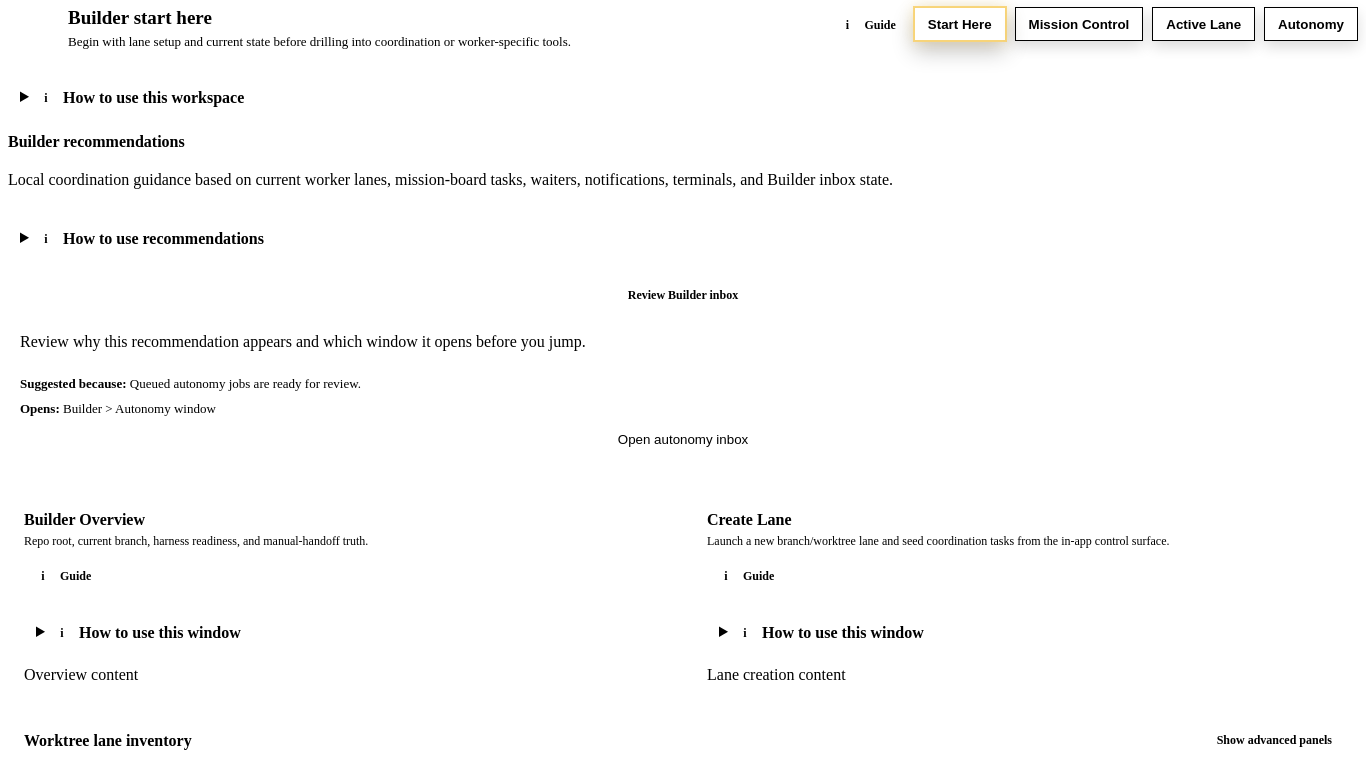
Test: BuilderWorkspaceView › uses Builder recommendations to switch nested surfaces
Expected: the text "Builder recommendations" is shown, [8, 133, 185, 150]
Expected: the text "Review why this recommendation appears" is shown, [20, 333, 586, 350]
Step 1. Click the button "Open autonomy inbox" → coordinates (683, 440), box [20, 426, 1346, 453]
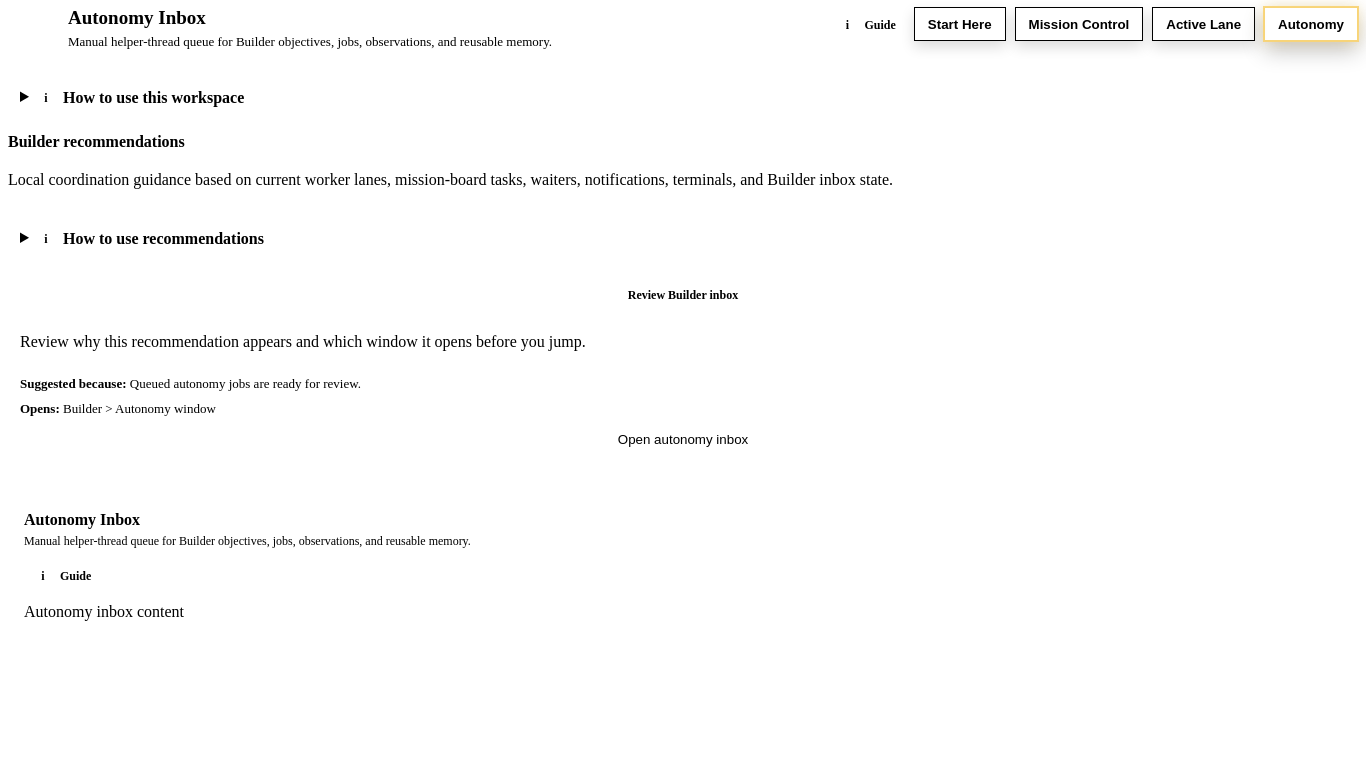
Result: the text "Autonomy inbox content" is shown at [24, 603, 184, 620]
Result: the text "Overview content" is gone
